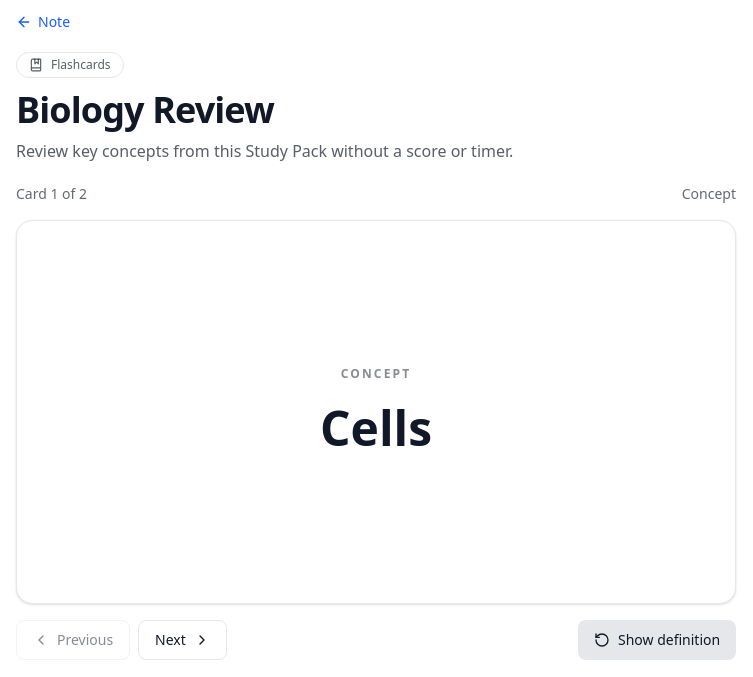
it: FlashcardsPageClient › renders matched key concepts as flip cards
This screenshot has width=753, height=677.
expect the heading "Biology Review" is shown: met, box [16,85,274,134]
expect the text "Card 1 of 2" is shown: met, box [16,184,87,204]
Click the button with aria-label "Flip to definition". click: (59, 412)
box: [16,220,736,604]
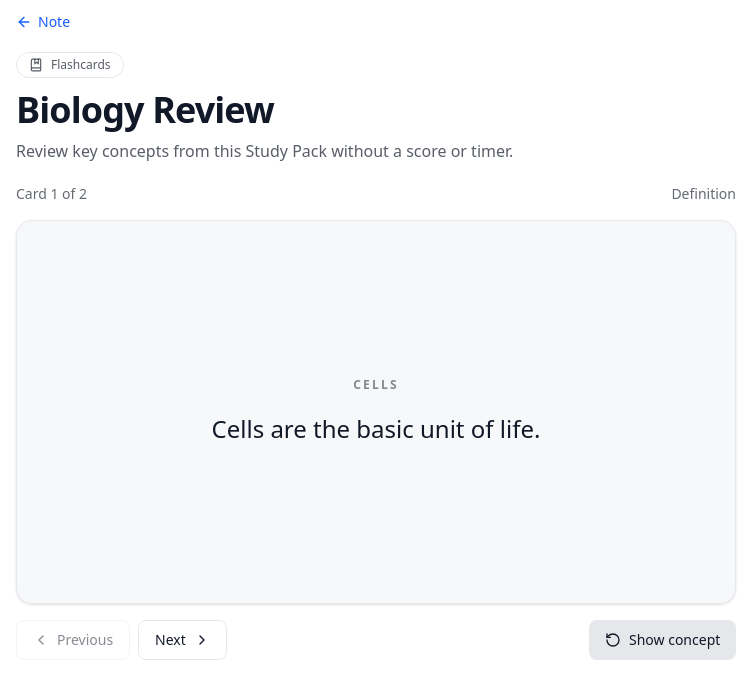
expect the text "Cells are the basic unit of life." is shown: met, box [212,408,540,448]
Click the button "Next". click: (182, 640)
box: [138,620,227,660]
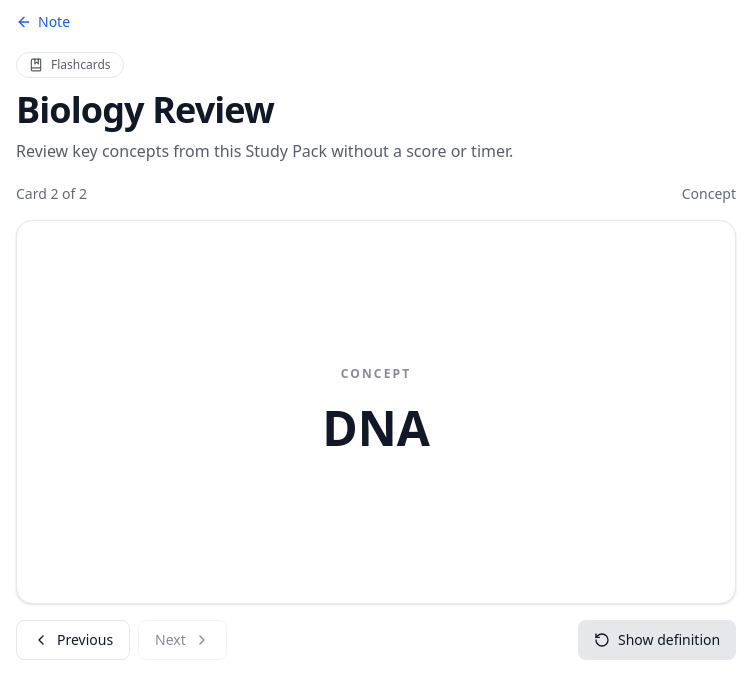
expect the text "Card 2 of 2" is shown: met, box [16,184,87,204]
expect the text "DNA" is shown: met, box [322,398,430,458]
Click the button with aria-label "Flip to definition". click: (59, 412)
box: [16,220,736,604]
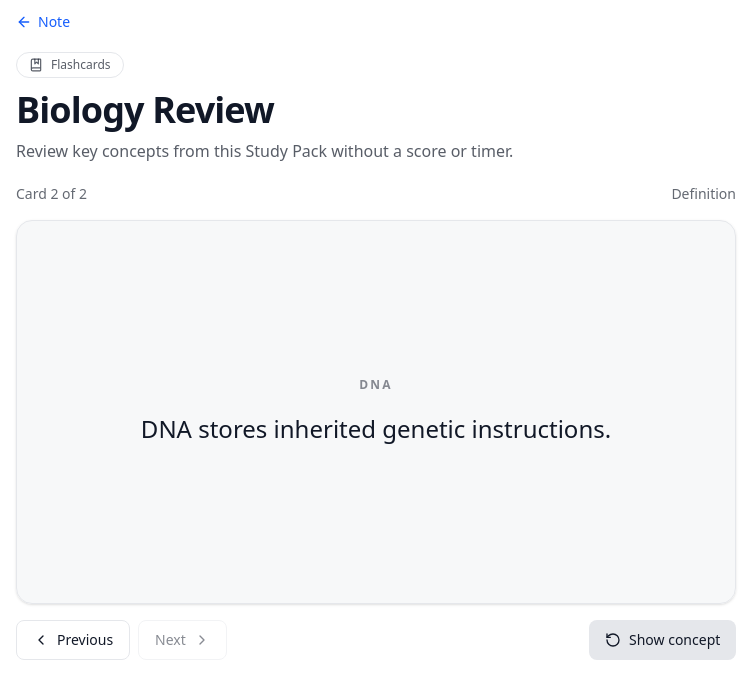
expect the text "DNA stores inherited genetic instructions." is shown: met, box [141,408,611,448]
